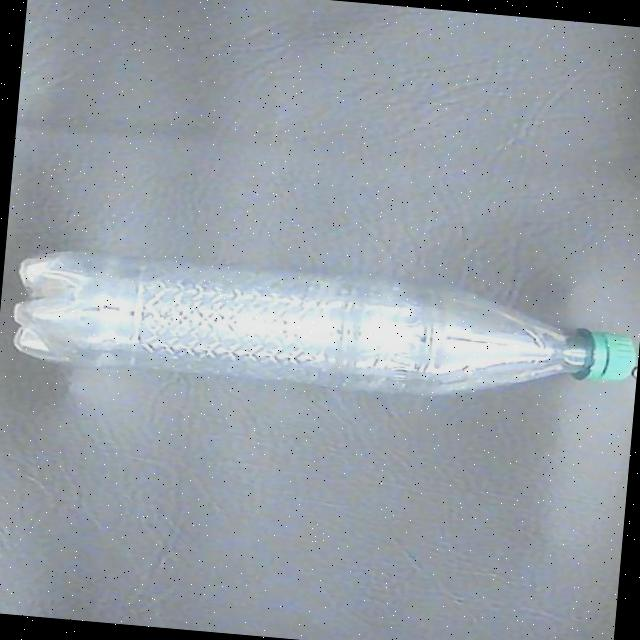bottle: (3, 238, 640, 417)
cap: (592, 328, 640, 390)
